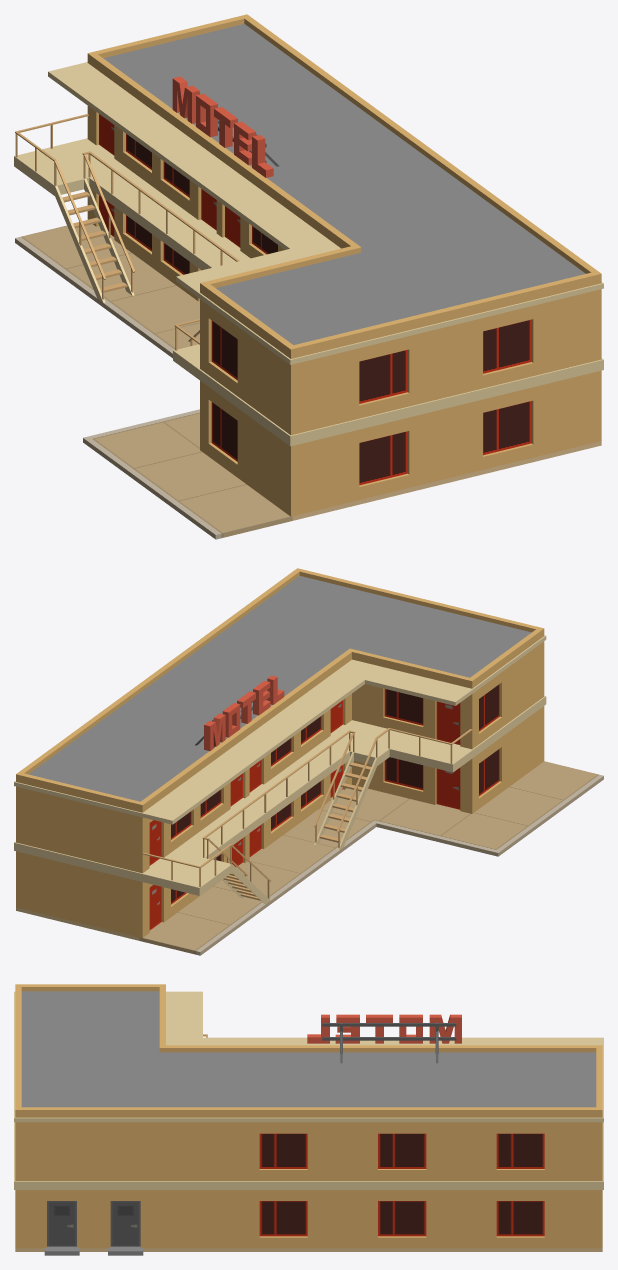
Rendered from west_fangzi05.FBX.
The picture shows the model from 3 angles, top to bottom: view 1: azimuth 30°, elevation 25°; view 2: azimuth 150°, elevation 25°; view 3: azimuth 270°, elevation 25°; orthographic projection. The views are drawn at different scales.
Visible parts, largest first — view 1: west_fangzi05; view 2: west_fangzi05; view 3: west_fangzi05.
Boxes of the visible parts, x1,y1,x2,y2 form: west_fangzi05: (14, 14, 603, 539); west_fangzi05: (14, 568, 603, 955); west_fangzi05: (14, 984, 603, 1255).
Size of the model in its own units: 4859 by 2457 by 7592.
